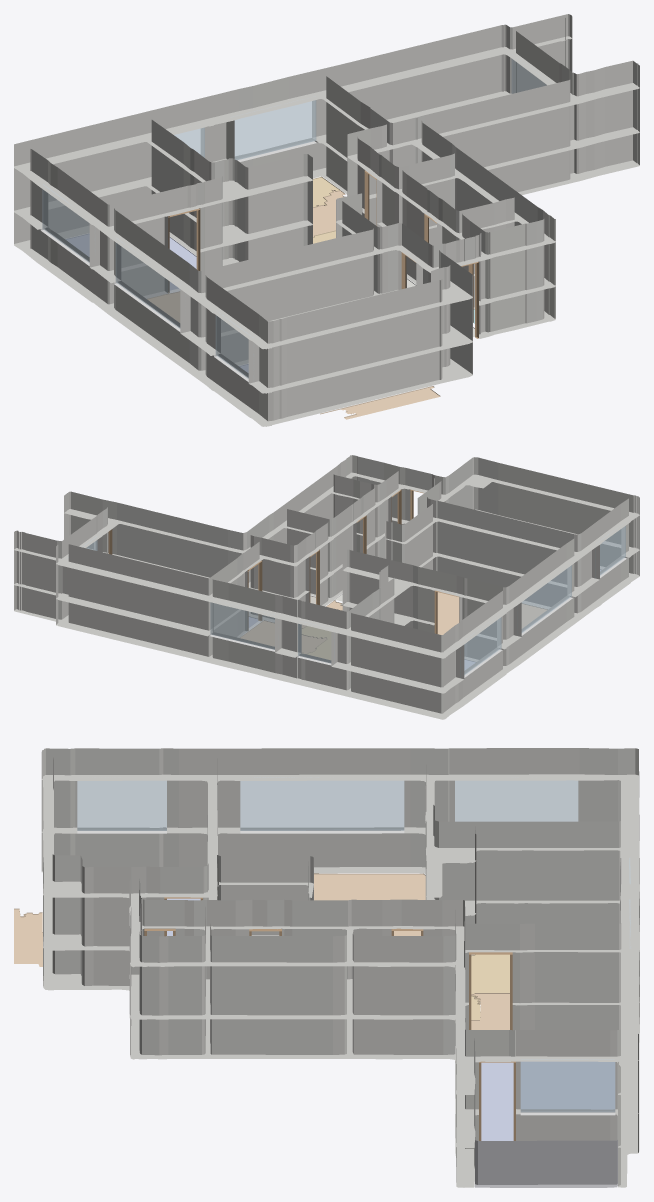
3 views of the same model, one above another, from view 1: azimuth 30°, elevation 25°; view 2: azimuth 150°, elevation 25°; view 3: azimuth 270°, elevation 25° (orthographic). The views are drawn at different scales.
Parts seen in each view (by area): view 1: walls, window_9, window_12, window_11, window_13, floor_3_Living_Room, floor_2_Living_Room, floor_6_Bed_Room, floor_1_Kitchen, window_10; view 2: walls, floor_3_Living_Room, window_9, window_12, window_11, window_8, window_13, floor_1_Kitchen; view 3: walls, window_12, floor_5_Bed_Room, railings, window_11, window_10, window_13, floor_3_Living_Room, floor_1_Kitchen, floor_2_Living_Room, sill_12.
Part boxes in pixels (x1,y1,x2,y2): walls: (14, 14, 639, 426); window_9: (231, 96, 316, 160); window_12: (115, 238, 180, 328); window_11: (42, 184, 89, 262); window_13: (215, 312, 253, 378); floor_3_Living_Room: (147, 190, 345, 322); floor_2_Living_Room: (320, 386, 440, 419); floor_6_Bed_Room: (65, 234, 196, 290); floor_1_Kitchen: (313, 176, 339, 243); window_10: (511, 59, 546, 93); walls: (14, 455, 639, 719); floor_3_Living_Room: (240, 592, 547, 653); window_9: (210, 602, 274, 649); window_12: (517, 565, 571, 632); window_11: (460, 617, 501, 677); window_8: (298, 622, 331, 663); window_13: (595, 526, 625, 578); floor_1_Kitchen: (302, 626, 330, 659); walls: (41, 748, 639, 1187); window_12: (240, 777, 404, 830); floor_5_Bed_Room: (481, 1062, 614, 1140); railings: (475, 1140, 617, 1187); window_11: (455, 780, 578, 821); window_10: (520, 1059, 615, 1112); window_13: (77, 780, 166, 830); floor_3_Living_Room: (314, 873, 509, 1029); floor_1_Kitchen: (471, 954, 509, 1019); floor_2_Living_Room: (14, 908, 42, 966); sill_12: (240, 829, 404, 833).
Size of the model in its own units: 15.65 by 2.72 by 12.89.
